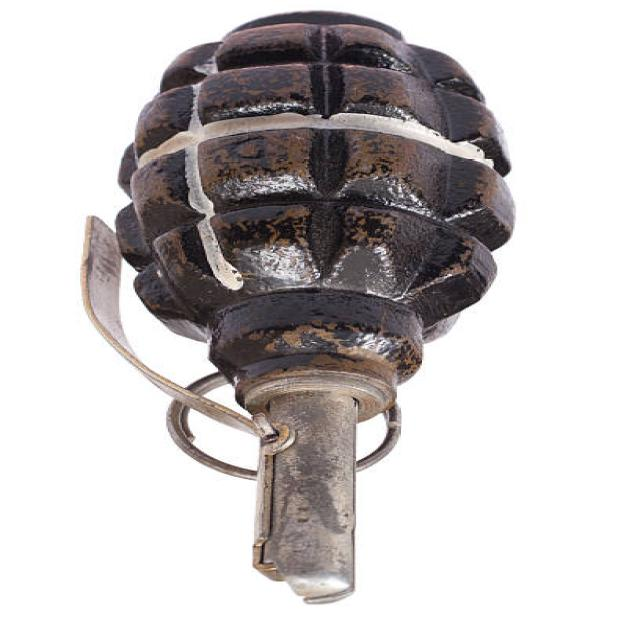grenade: (61, 1, 544, 616)
